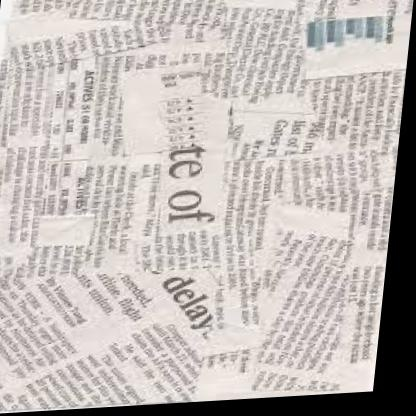trash: (0, 0, 411, 411)
